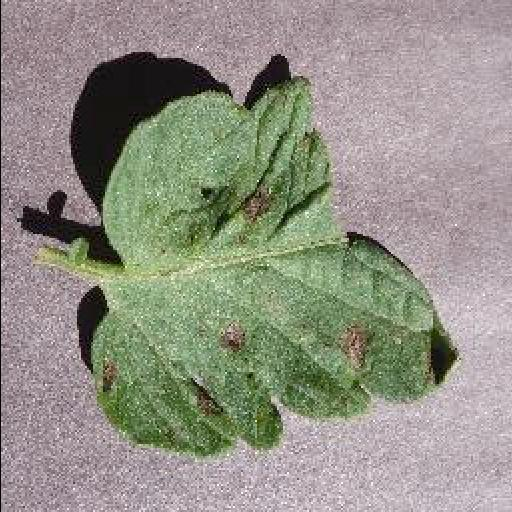disease_tomato: (87, 78, 457, 458)
